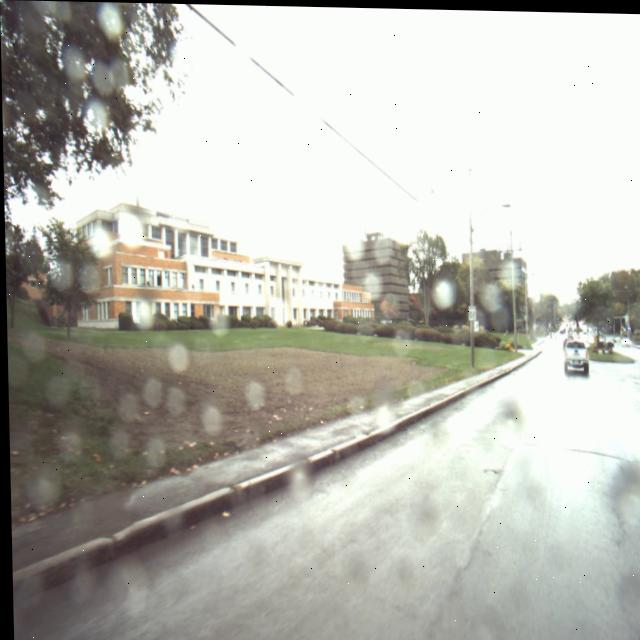car: (561, 336, 589, 375)
